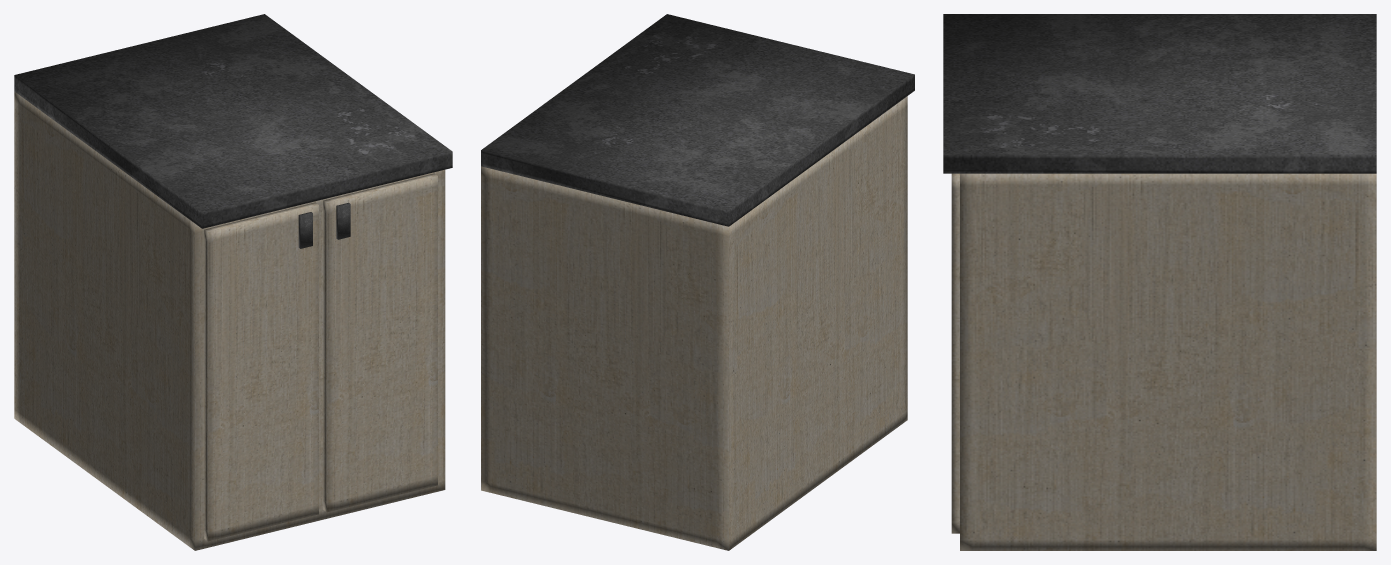
The model's file is cabinet.low.none.004.fbx.
The picture shows the model from 3 angles, left to right: view 1: azimuth 30°, elevation 25°; view 2: azimuth 150°, elevation 25°; view 3: azimuth 270°, elevation 25°; orthographic projection. The views are drawn at different scales.
Parts seen in each view (by area): view 1: Base, Cube.001, Drawer.002, Drawer.001; view 2: Base, Cube.001; view 3: Base, Cube.001, Drawer.002.
Part boxes in pixels (left/top/right/bottom): Base: left=14, top=91, right=445, bottom=550; Cube.001: left=14, top=14, right=452, bottom=228; Drawer.002: left=323, top=173, right=437, bottom=512; Drawer.001: left=204, top=202, right=318, bottom=541; Base: left=481, top=96, right=907, bottom=550; Cube.001: left=481, top=14, right=914, bottom=226; Base: left=960, top=173, right=1376, bottom=550; Cube.001: left=943, top=14, right=1376, bottom=173; Drawer.002: left=951, top=173, right=959, bottom=533.
Size of the model in its own units: 80 by 105 by 104.
